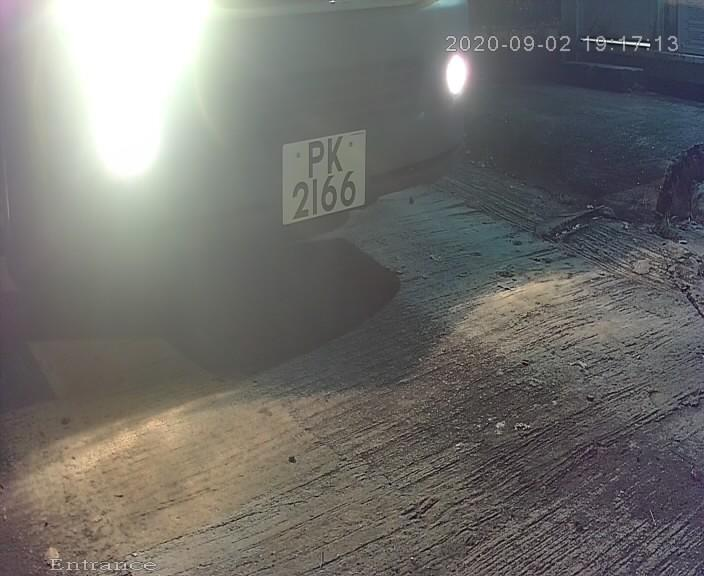Car: (23, 3, 544, 371)
License Plate: (271, 114, 371, 237)
